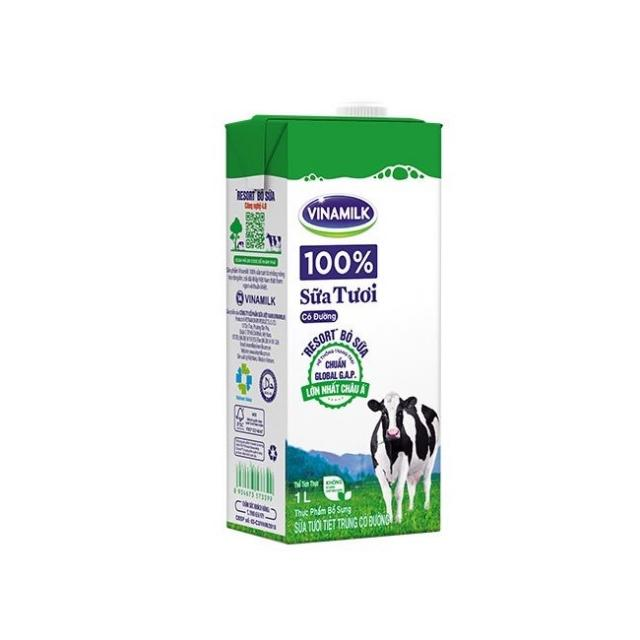non_white_jug: (182, 71, 455, 548)
